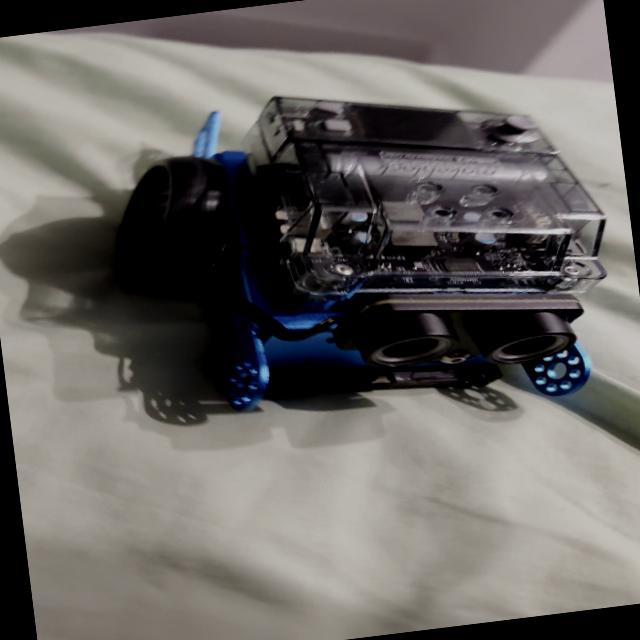mbot-detection: (78, 47, 640, 470)
